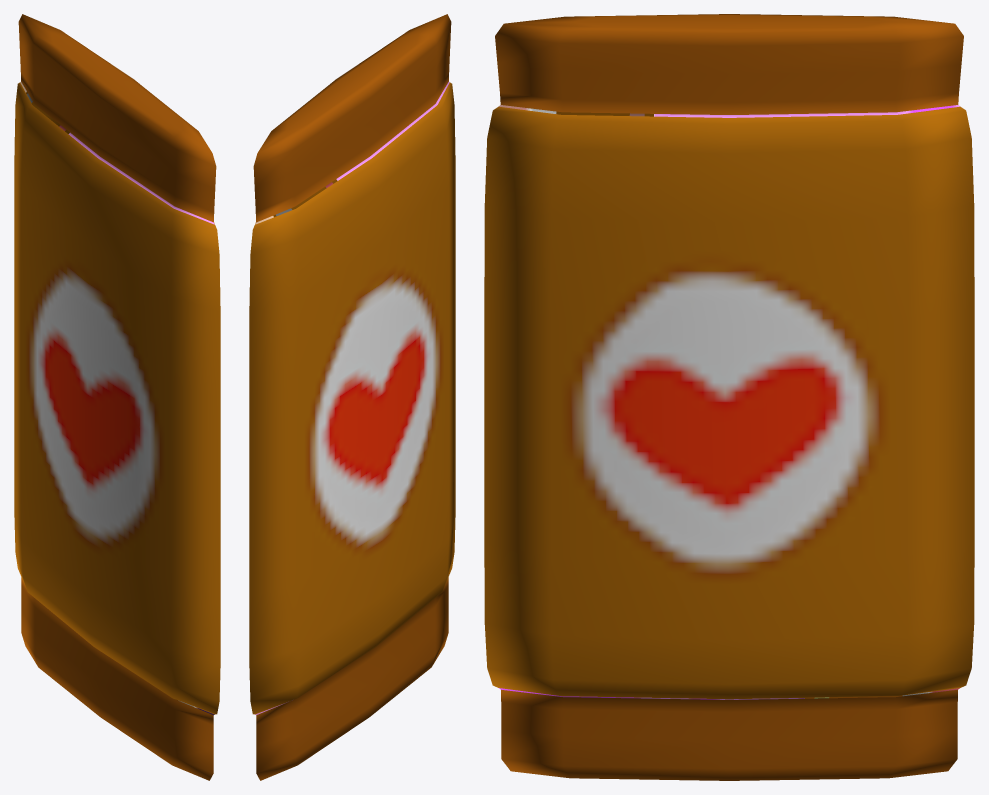
The model's file is SeedPackage.fbx.
The picture shows the model from 3 angles, left to right: view 1: azimuth 30°, elevation 25°; view 2: azimuth 150°, elevation 25°; view 3: azimuth 270°, elevation 25°; orthographic projection. The views are drawn at different scales.
Visible parts, largest first — view 1: SeedPackage; view 2: SeedPackage; view 3: SeedPackage.
Part boxes in pixels (left/top/right/bottom): SeedPackage: left=14, top=14, right=220, bottom=780; SeedPackage: left=249, top=14, right=455, bottom=780; SeedPackage: left=484, top=14, right=974, bottom=780.
Bounding box in the file's own units: 6.26 × 63.74 × 37.7.
